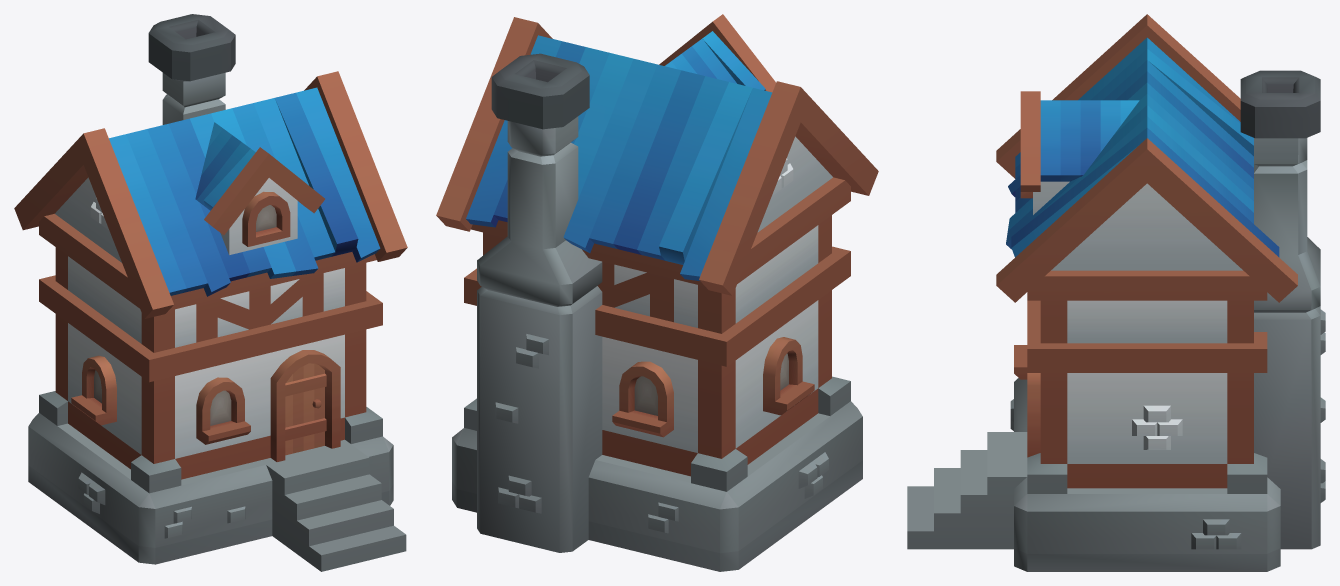
Rendered from kay-casa-b.gltf.
3 views of the same model, side by side, from view 1: azimuth 30°, elevation 25°; view 2: azimuth 150°, elevation 25°; view 3: azimuth 270°, elevation 25° (orthographic). The views are drawn at different scales.
Visible parts, largest first — view 1: building_home_B_blue; view 2: building_home_B_blue; view 3: building_home_B_blue.
Part boxes in pixels (left/top/right/bottom): building_home_B_blue: left=14, top=14, right=407, bottom=571; building_home_B_blue: left=436, top=14, right=878, bottom=571; building_home_B_blue: left=907, top=14, right=1325, bottom=571.
Bounding box in the file's own units: 4.37 × 6.4 × 5.49.
1 material, 1 textured.
